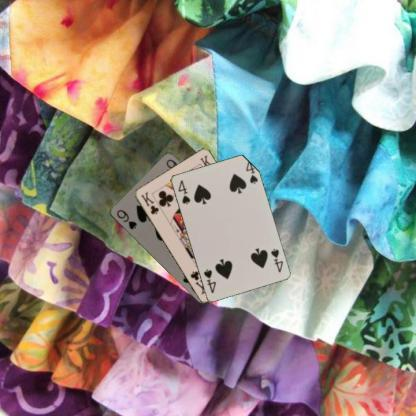4s: (175, 177, 191, 206), (268, 246, 284, 274)
9s: (113, 207, 138, 230)
Kc: (138, 188, 160, 216)
